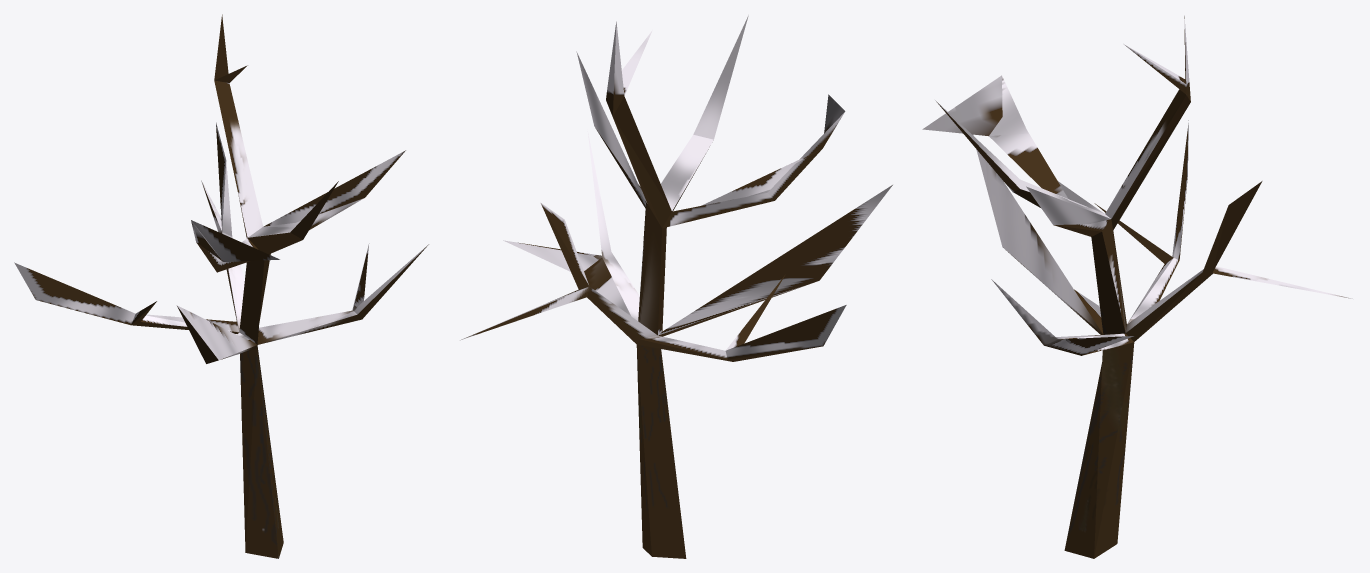
The model's file is tree4_LOD1.fbx.
The picture shows the model from 3 angles, left to right: view 1: azimuth 30°, elevation 25°; view 2: azimuth 150°, elevation 25°; view 3: azimuth 270°, elevation 25°; orthographic projection. The views are drawn at different scales.
Parts seen in each view (by area): view 1: Tree4_LOD1; view 2: Tree4_LOD1; view 3: Tree4_LOD1.
Part boxes in pixels (left/top/right/bottom): Tree4_LOD1: left=14, top=14, right=428, bottom=558; Tree4_LOD1: left=460, top=15, right=892, bottom=558; Tree4_LOD1: left=922, top=15, right=1352, bottom=558.
Bounding box in the file's own units: 422 × 616 × 451.
1 material, 1 textured.
